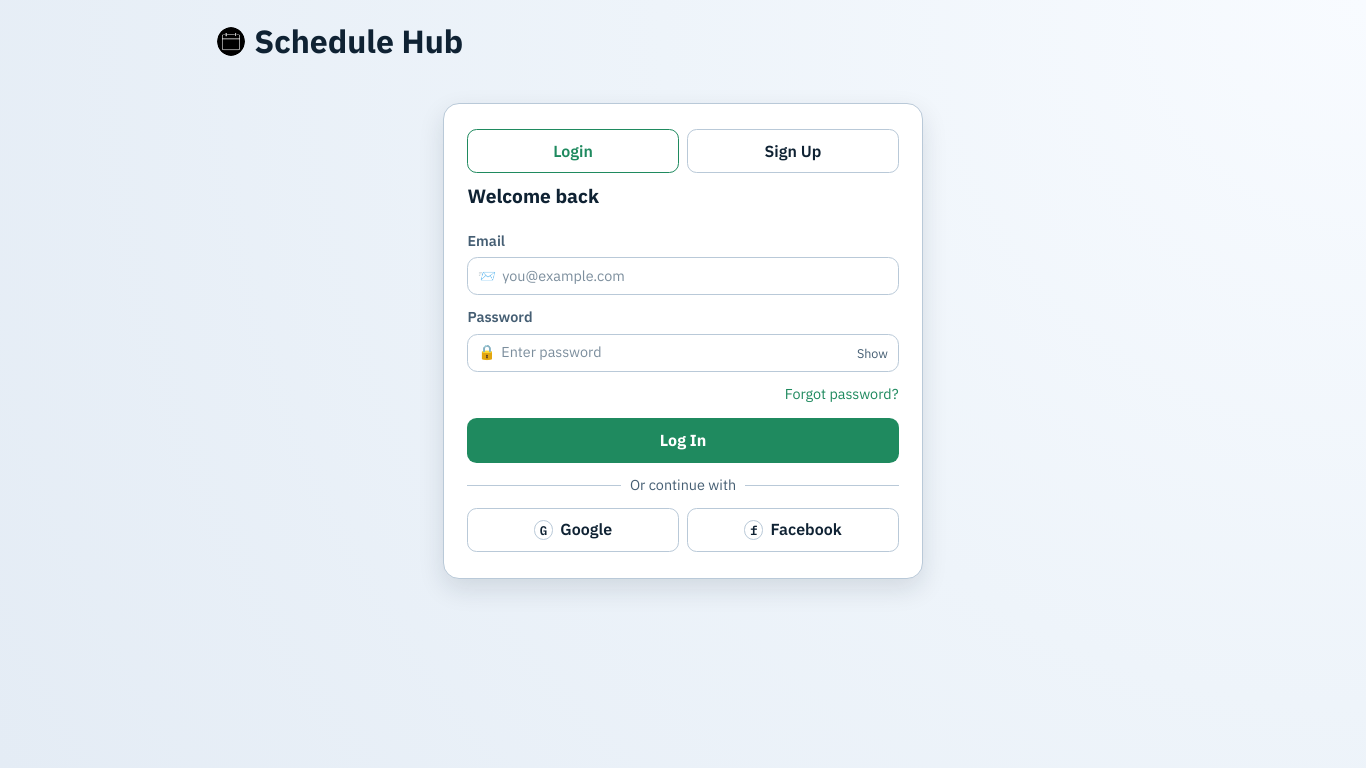
Test: App (Supabase mode) › handles sign-up and sets post-signup guidance message
Click the button "Sign Up". click: [793, 151]
box: [687,129,898,173]
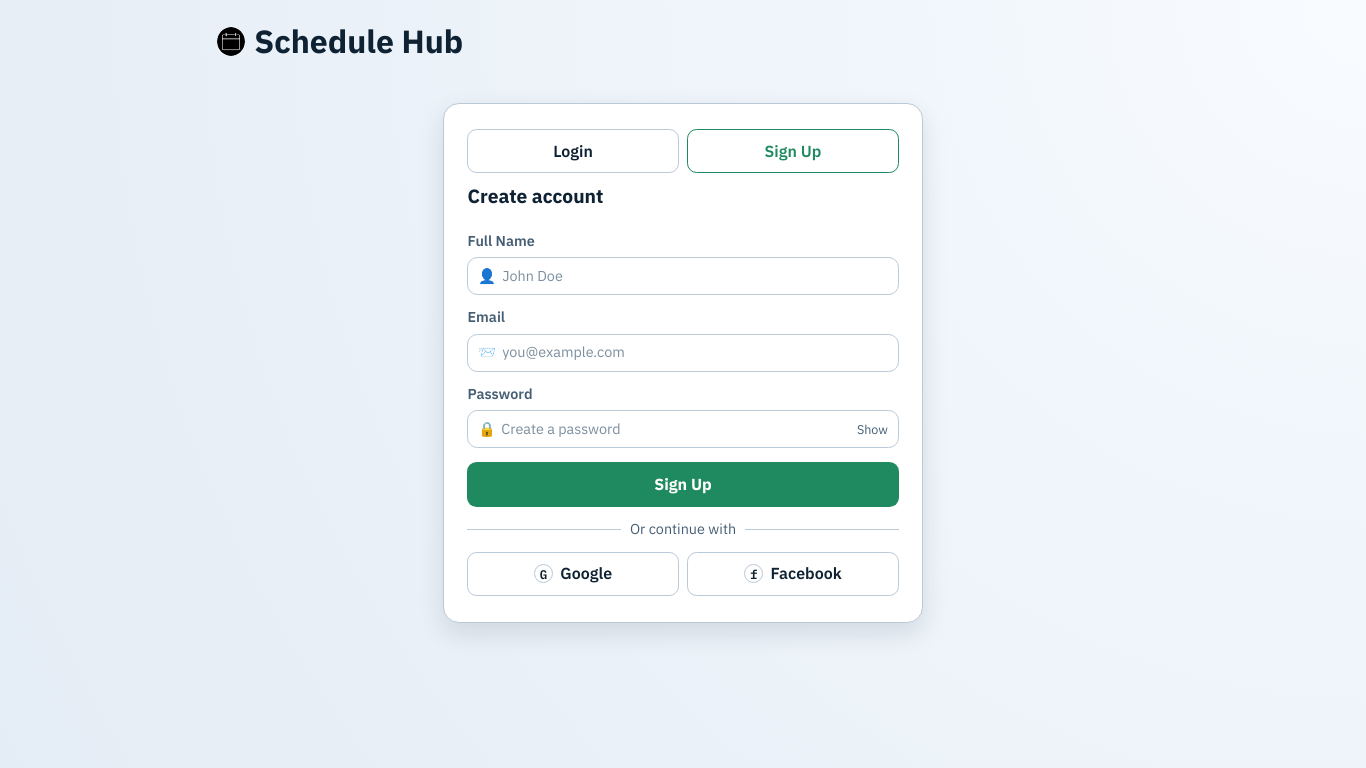
Type "  Jane Doe  " into the field with placeholder "John Doe". click: [695, 276]
box: [502,266,888,286]
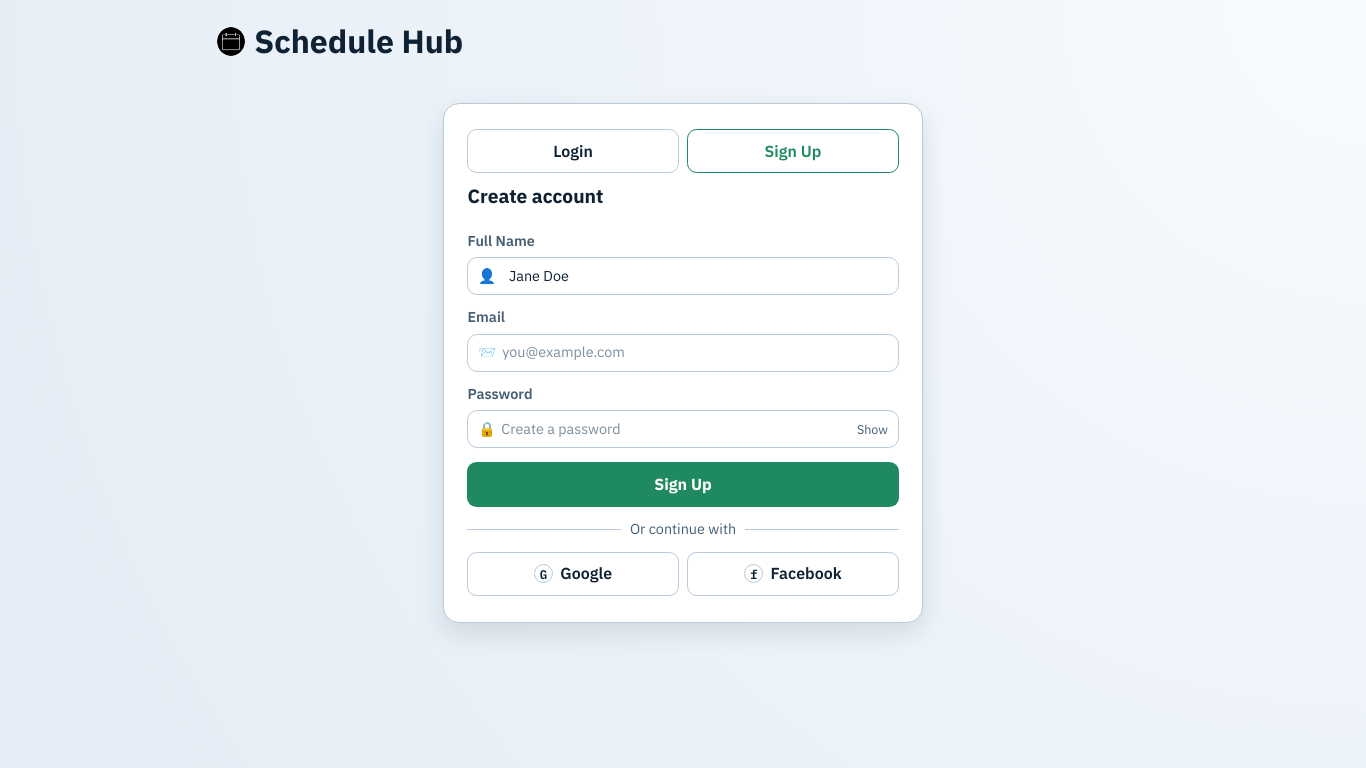
Type "jane@example.com" into the field with placeholder "you@example.com". click: [695, 353]
box: [502,342,888,363]
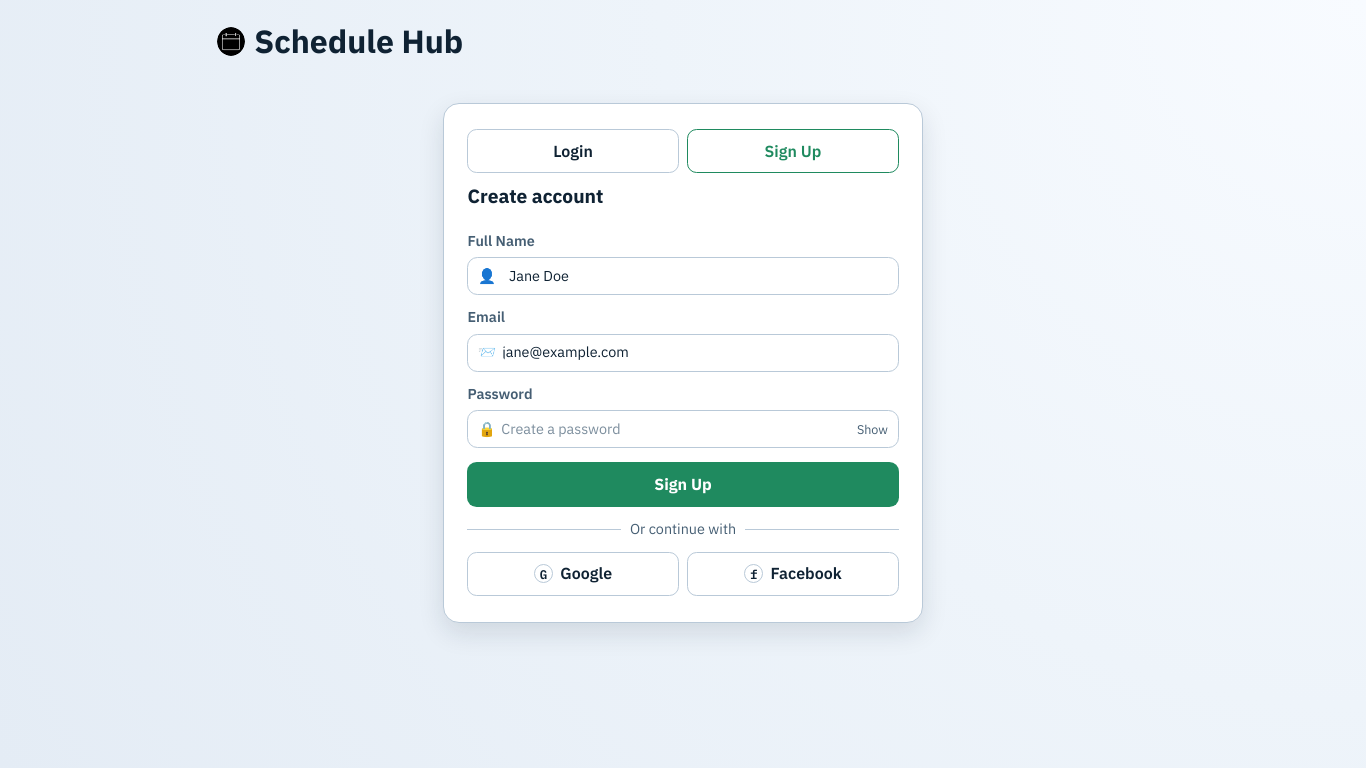
Type "abc12345" into the password field with placeholder "Create a password". click: [676, 429]
box: [501,419,850,440]
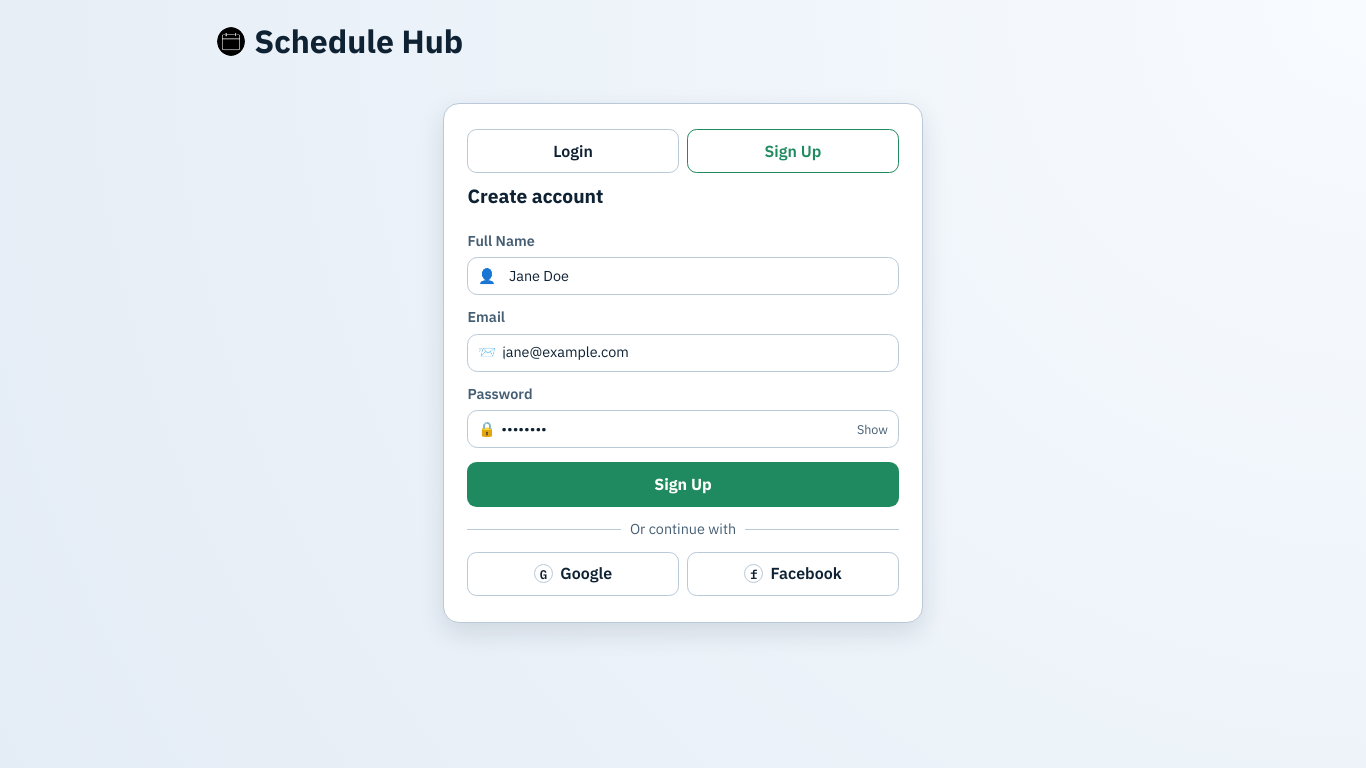
Click the button "Sign Up" below "Password". click: [683, 484]
box: [468,462,898,507]
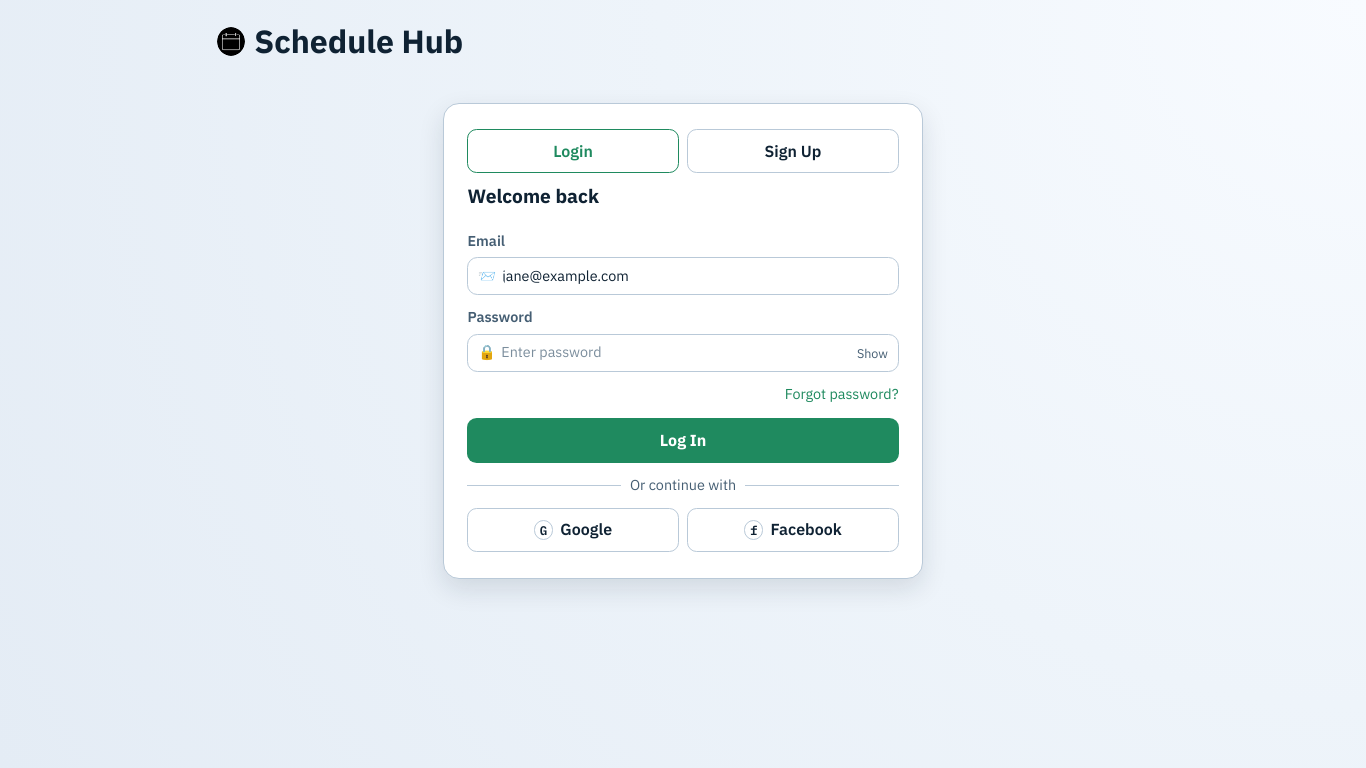
Now the button "Log In" is shown, box [468,418,898,463]
